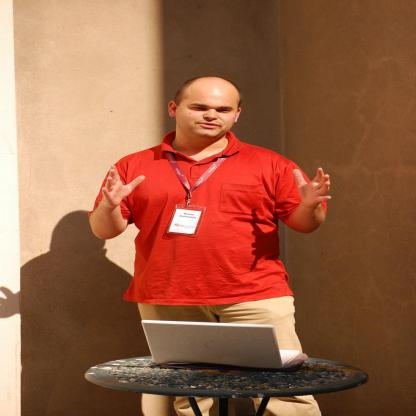board: (136, 318, 301, 378)
